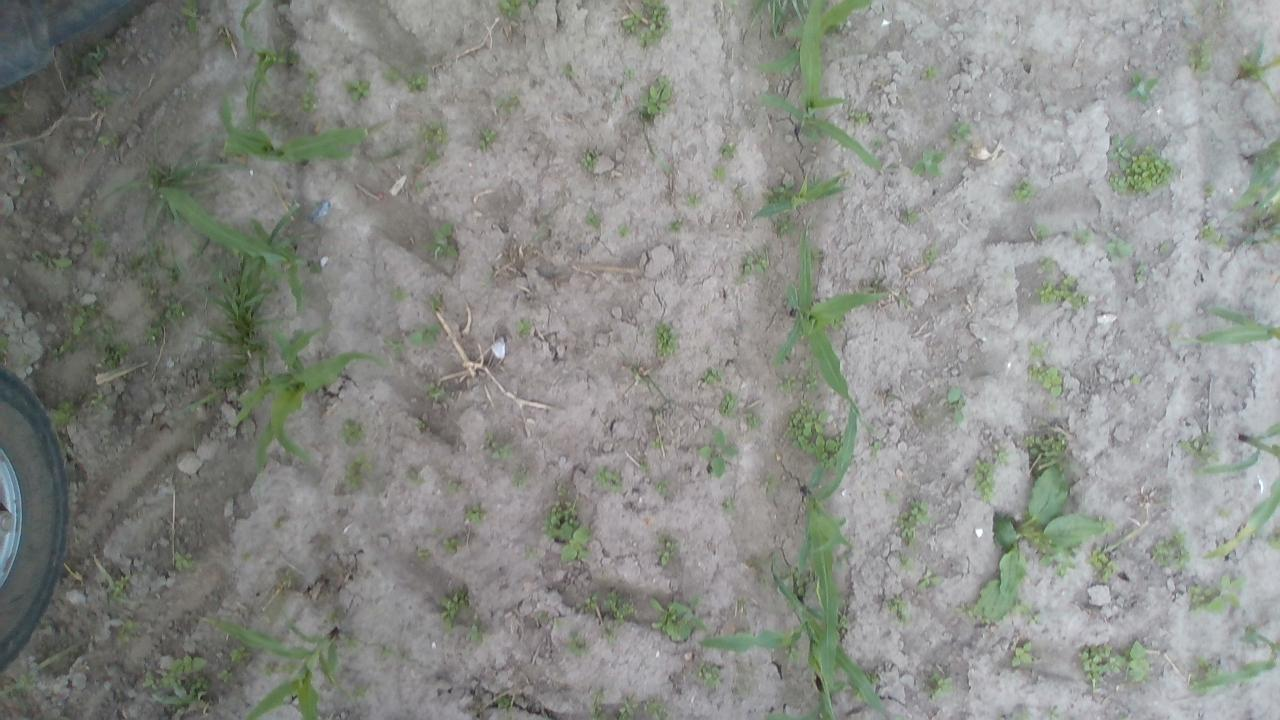Maize: (702, 554, 898, 720), (230, 324, 394, 486), (776, 226, 891, 428), (750, 1, 882, 172), (798, 385, 862, 701), (160, 179, 310, 311), (198, 610, 370, 720), (217, 98, 369, 160), (752, 0, 871, 75), (236, 0, 295, 125), (1205, 476, 1280, 562), (748, 168, 852, 228), (1189, 622, 1280, 690), (1226, 132, 1280, 246), (1192, 420, 1280, 480), (1188, 305, 1280, 343), (1236, 24, 1280, 96)
Weeds: (971, 469, 1114, 618), (202, 255, 268, 403), (1104, 132, 1186, 200), (138, 657, 212, 711), (128, 234, 187, 297), (157, 148, 230, 192), (543, 502, 594, 564), (616, 0, 678, 51), (580, 588, 632, 646), (790, 402, 836, 465), (61, 298, 123, 344), (260, 210, 314, 260), (648, 596, 705, 642), (1184, 575, 1246, 616), (1076, 642, 1128, 690), (120, 166, 162, 224), (67, 211, 114, 260), (1032, 273, 1091, 311), (746, 0, 810, 34), (696, 428, 736, 479), (971, 447, 1006, 504), (415, 120, 454, 170), (434, 582, 471, 630), (423, 223, 463, 265), (1024, 432, 1068, 470), (1150, 526, 1190, 567), (896, 497, 929, 546), (1020, 361, 1064, 397), (338, 451, 377, 491), (1172, 429, 1218, 462), (636, 80, 673, 121), (1122, 640, 1157, 682), (651, 316, 684, 358), (1122, 70, 1160, 106), (340, 414, 376, 452), (32, 249, 76, 280), (908, 144, 948, 178), (406, 318, 448, 350), (654, 534, 686, 575), (300, 64, 324, 118), (944, 116, 978, 154), (482, 430, 516, 468), (590, 467, 631, 498), (1087, 548, 1122, 584), (740, 244, 774, 280), (273, 566, 307, 602), (0, 331, 33, 368), (1194, 222, 1234, 252), (90, 342, 132, 370), (616, 699, 670, 720), (926, 668, 957, 704), (286, 269, 308, 318), (110, 576, 138, 613), (560, 632, 598, 659), (177, 0, 206, 35), (535, 606, 568, 636), (47, 334, 85, 360), (944, 385, 968, 425), (160, 294, 192, 324), (7, 673, 41, 700), (1190, 36, 1216, 71), (692, 658, 724, 686), (48, 398, 76, 430), (1008, 640, 1038, 668), (342, 76, 370, 106), (84, 384, 112, 414), (578, 144, 606, 174), (885, 594, 912, 625), (492, 0, 544, 16), (586, 687, 611, 720), (82, 47, 110, 76), (461, 505, 490, 533), (552, 478, 583, 504), (915, 566, 946, 592), (440, 532, 466, 562), (114, 615, 142, 642), (140, 317, 164, 348), (629, 360, 657, 385), (421, 381, 445, 410), (790, 566, 813, 596), (716, 389, 739, 419), (1102, 238, 1133, 260), (1188, 0, 1230, 16), (700, 362, 726, 387), (464, 616, 487, 644), (494, 93, 524, 114), (511, 463, 532, 493), (90, 90, 116, 114), (770, 218, 798, 240), (407, 68, 429, 96), (804, 361, 821, 397), (1013, 178, 1034, 207), (1167, 322, 1186, 354), (492, 691, 516, 716), (777, 374, 802, 398), (414, 540, 437, 566), (412, 412, 433, 440), (519, 542, 548, 562), (476, 125, 496, 154), (848, 106, 872, 130), (426, 292, 448, 318), (348, 684, 374, 706), (172, 550, 198, 572), (319, 606, 343, 629), (380, 337, 402, 361), (684, 190, 708, 212), (1024, 339, 1047, 361), (720, 495, 741, 518), (1194, 654, 1218, 674), (1036, 256, 1060, 276), (766, 183, 796, 199), (585, 206, 604, 231), (717, 142, 738, 164), (386, 285, 409, 305), (1073, 223, 1092, 247), (447, 479, 468, 500), (1196, 180, 1218, 200), (512, 316, 534, 336), (1036, 222, 1053, 246), (378, 644, 402, 661), (650, 437, 671, 456), (707, 166, 728, 185), (746, 413, 764, 435), (896, 555, 918, 573), (1128, 265, 1146, 287), (477, 272, 499, 290), (664, 218, 686, 236), (612, 224, 634, 242), (558, 62, 579, 80), (1042, 704, 1065, 720), (1266, 528, 1280, 554), (900, 207, 919, 226), (923, 247, 944, 264), (784, 646, 800, 668), (620, 63, 636, 84), (654, 480, 672, 498), (381, 63, 398, 82), (870, 438, 886, 458), (636, 460, 654, 477), (920, 65, 941, 79), (228, 646, 245, 663), (1126, 372, 1142, 390), (95, 134, 117, 147), (1156, 241, 1176, 255), (61, 444, 78, 459), (866, 668, 880, 686), (238, 551, 256, 565), (220, 668, 234, 686), (274, 514, 287, 532), (1010, 710, 1031, 720)
